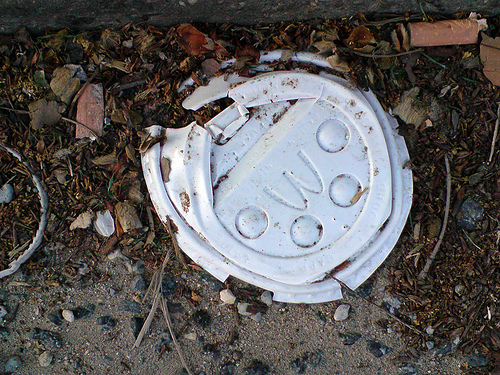litter: (142, 48, 413, 304), (405, 15, 483, 45), (75, 83, 103, 137)
